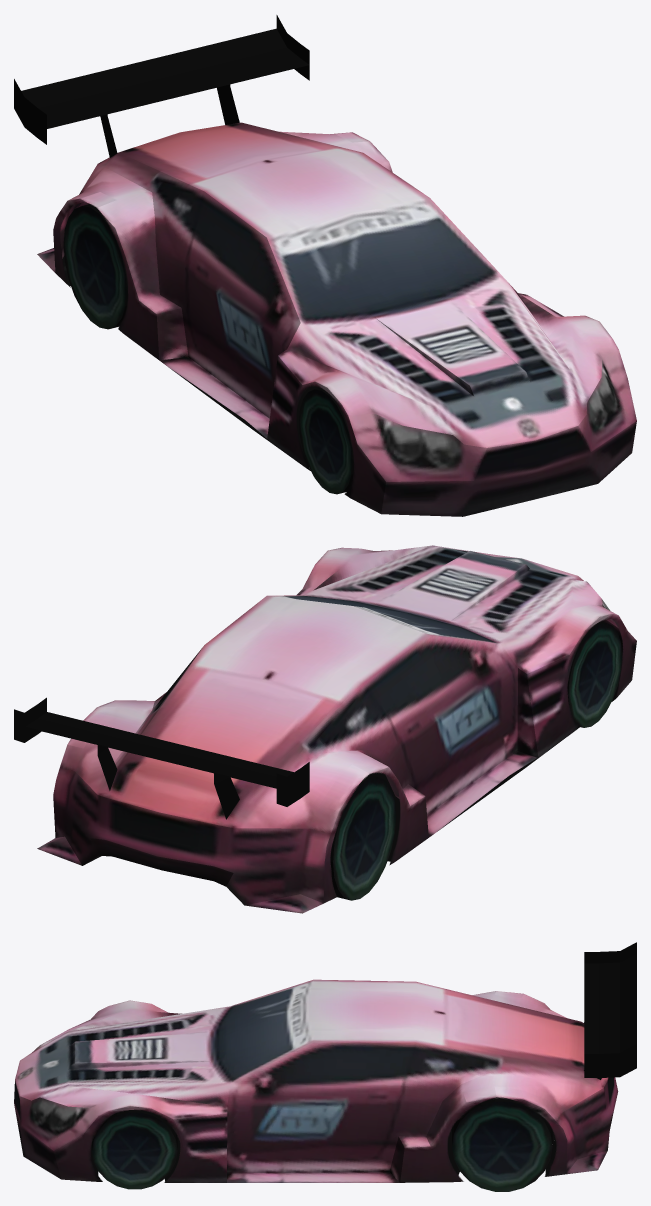
The model's file is ps1-car.glb.
3 views of the same model, one above another, from view 1: azimuth 30°, elevation 25°; view 2: azimuth 150°, elevation 25°; view 3: azimuth 270°, elevation 25° (orthographic). The views are drawn at different scales.
Visible parts, largest first — view 1: Object_16, Object_20, Object_13, Object_7; view 2: Object_16, Object_20, Object_13, Object_7, Object_18; view 3: Object_16, Object_10, Object_20, Object_4, Object_18, Object_11.
Boxes of the visible parts, left/top/right/bottom form: Object_16: left=37, top=122, right=636, bottom=516; Object_20: left=14, top=15, right=309, bottom=157; Object_13: left=63, top=206, right=126, bottom=329; Object_7: left=299, top=389, right=352, bottom=494; Object_16: left=37, top=545, right=636, bottom=913; Object_20: left=14, top=697, right=309, bottom=819; Object_13: left=333, top=777, right=396, bottom=900; Object_7: left=568, top=623, right=621, bottom=727; Object_18: left=369, top=673, right=620, bottom=861; Object_16: left=14, top=979, right=618, bottom=1182; Object_10: left=452, top=1101, right=552, bottom=1191; Object_20: left=584, top=942, right=636, bottom=1079; Object_4: left=92, top=1112, right=177, bottom=1189; Object_18: left=90, top=1127, right=555, bottom=1182; Object_11: left=452, top=1097, right=552, bottom=1145.
Bounding box in the file's own units: 0.7679 × 0.4919 × 1.9.
2 materials, 1 textured.
